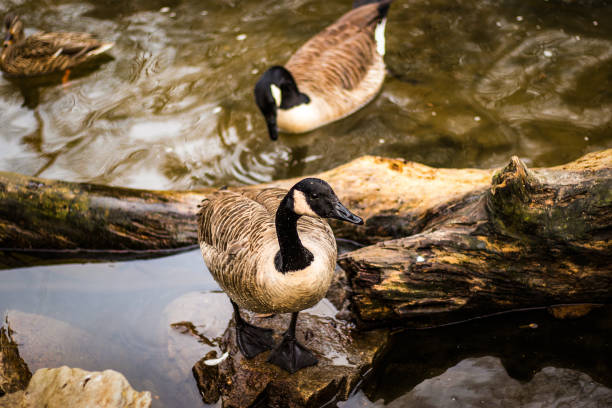goose: (188, 174, 366, 376), (250, 1, 391, 144), (1, 11, 115, 81)
